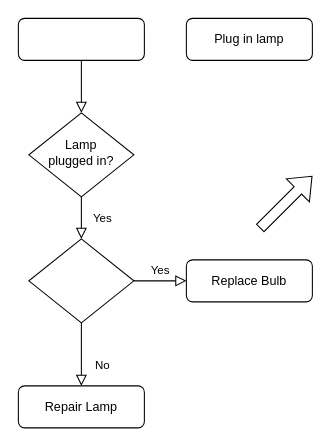
Some shapes in this 331 by 446 pixel diagram are drawn without their labels. The centre of each missing label's shape, as x and y in pixels:
"Bulb burned out?" goes at point 81,280.
"welcome page" goes at point 80,38.
